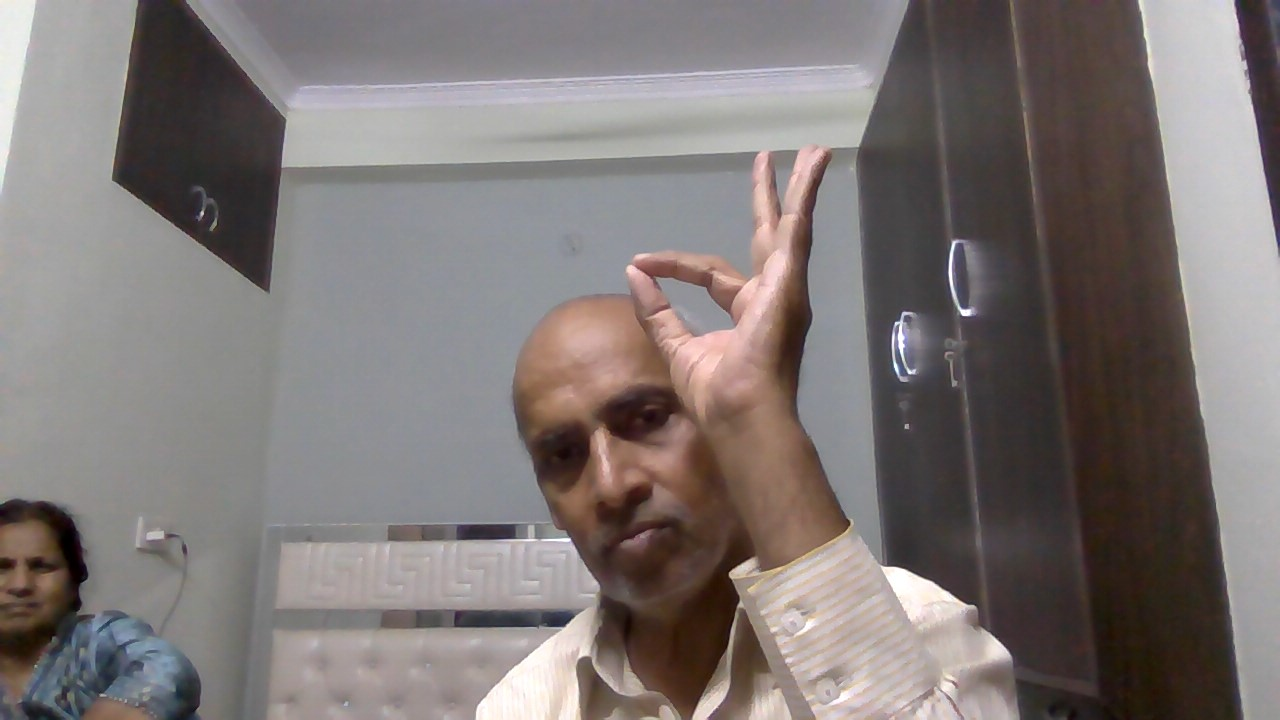Copy: (617, 135, 851, 431)
